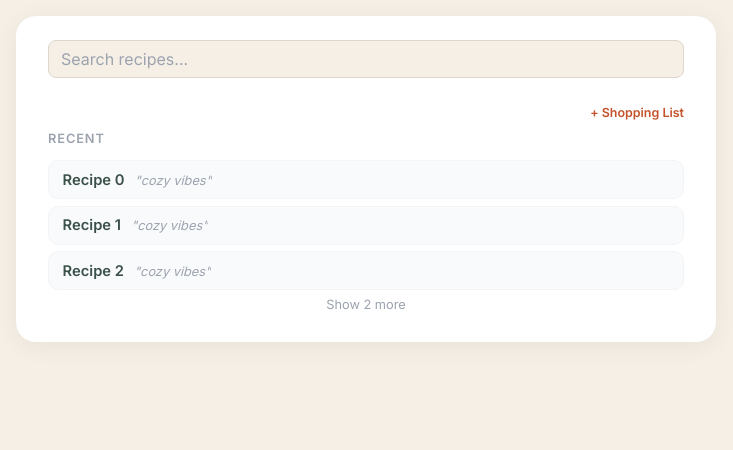
RecipeHistory — show more › expands to show all entries when 'Show more' is clicked
Click the button "Show 2 more". click: [366, 304]
box: [48,290,684,318]
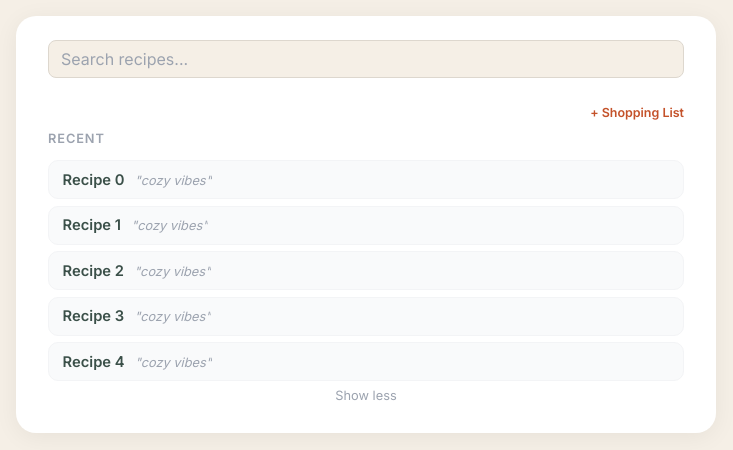
Expected: the number of list items is 5, [48,160,684,199]; [48,206,684,245]; [48,251,684,290]; [48,297,684,336]; [48,342,684,382]
